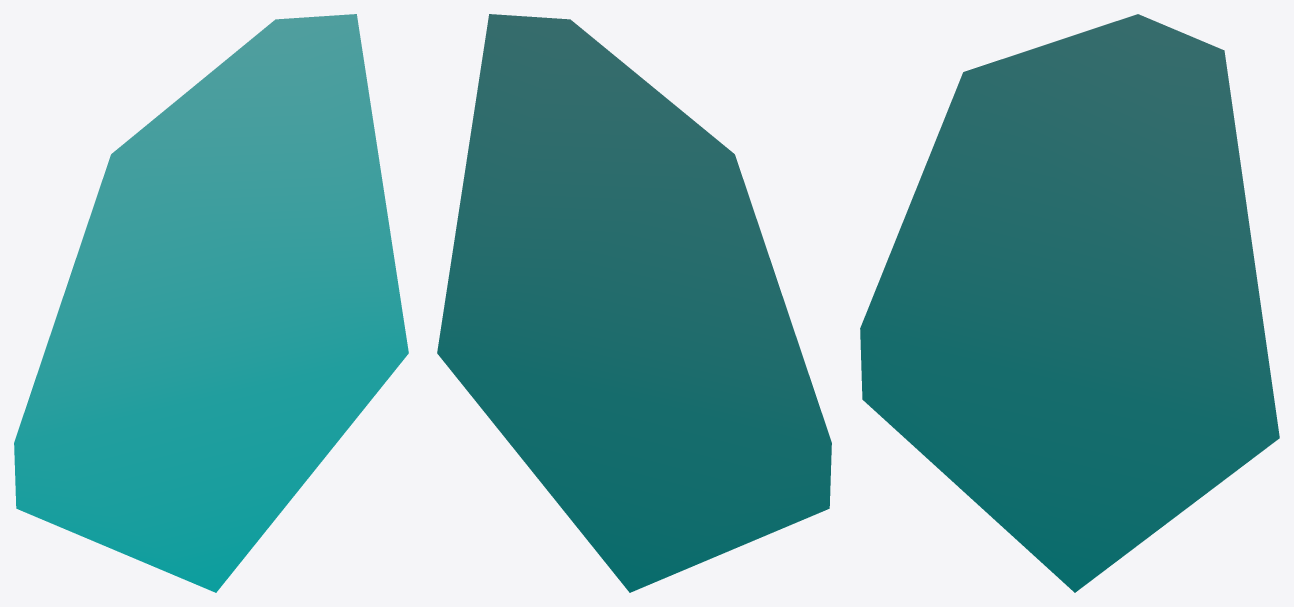
The model's file is Lemon_Balm_umslacdia_Mid_umslacdia_VarC_LOD3.fbx.
3 views of the same model, side by side, from view 1: azimuth 30°, elevation 25°; view 2: azimuth 150°, elevation 25°; view 3: azimuth 330°, elevation 25° (orthographic). The views are drawn at different scales.
Parts seen in each view (by area): view 1: _7ox0_VarC_LOD5; view 2: _7ox0_VarC_LOD5; view 3: _7ox0_VarC_LOD5.
Boxes of the visible parts, x1,y1,x2,y2 form: _7ox0_VarC_LOD5: (14, 14, 408, 592); _7ox0_VarC_LOD5: (437, 14, 831, 592); _7ox0_VarC_LOD5: (860, 14, 1279, 592).
Size of the model in its own units: 52.69 by 71.3 by 0.
